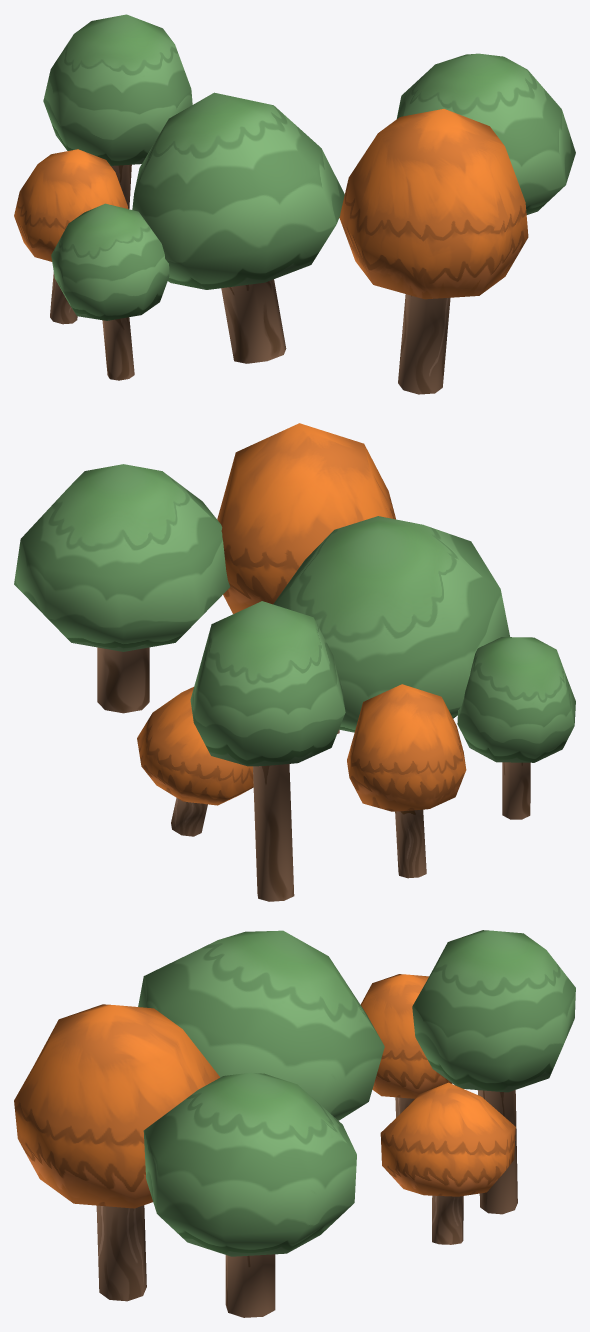
File: Nature_02.fbx
The picture shows the model from 3 angles, top to bottom: view 1: azimuth 30°, elevation 25°; view 2: azimuth 150°, elevation 25°; view 3: azimuth 270°, elevation 25°; orthographic projection. The views are drawn at different scales.
Parts seen in each view (by area): view 1: Nature_02; view 2: Nature_02; view 3: Nature_02.
Boxes of the visible parts, left/top/right/bottom form: Nature_02: left=14, top=14, right=575, bottom=394; Nature_02: left=14, top=423, right=575, bottom=901; Nature_02: left=14, top=930, right=575, bottom=1317.
Size of the model in its own units: 68.82 by 36.52 by 62.65.
